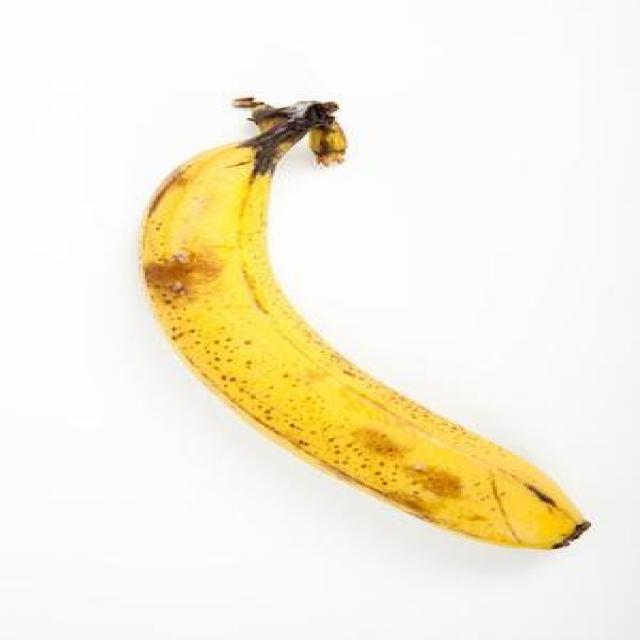Banana: (139, 98, 598, 558)
